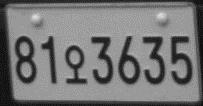1: (40, 34, 57, 84)
3: (141, 36, 166, 85), (90, 35, 114, 84)
5: (169, 34, 193, 85)
6: (117, 34, 142, 85)
8: (12, 34, 37, 84)
오: (63, 44, 87, 85)
